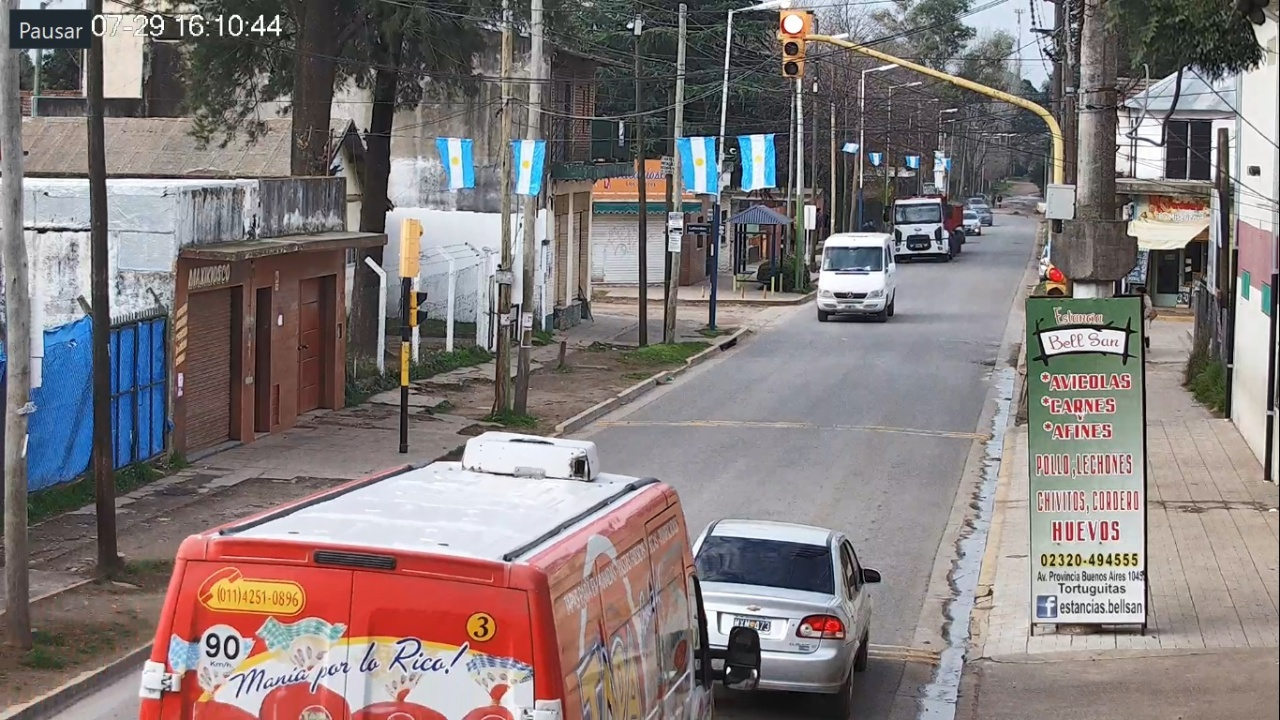car: (142, 430, 760, 720), (696, 517, 882, 720)
traffic light: (781, 11, 804, 76)
